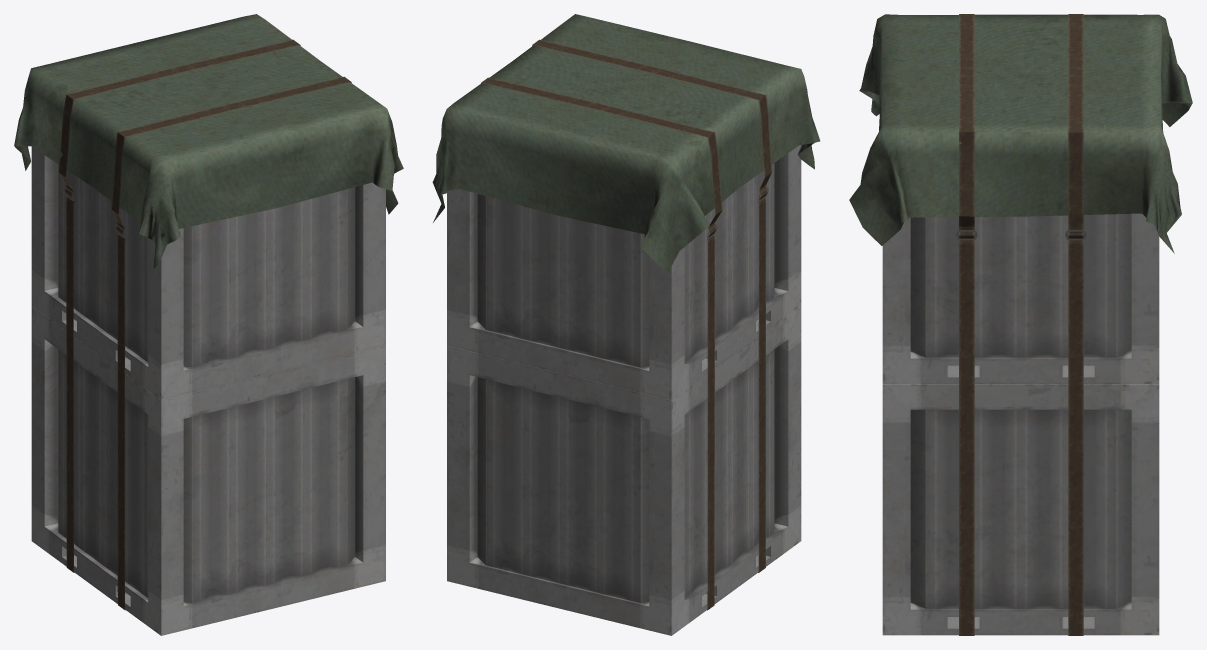
The model's file is Uptown_SteelBox01.fbx.
3 renders of one model, left to right at view 1: azimuth 30°, elevation 25°; view 2: azimuth 150°, elevation 25°; view 3: azimuth 270°, elevation 25°, orthographic. The views are drawn at different scales.
Parts seen in each view (by area): view 1: ItemBox_SteelBox_03_0_2; view 2: ItemBox_SteelBox_03_0_2; view 3: ItemBox_SteelBox_03_0_2.
Boxes of the visible parts, x1,y1,x2,y2 form: ItemBox_SteelBox_03_0_2: [14, 14, 403, 635]; ItemBox_SteelBox_03_0_2: [432, 14, 820, 635]; ItemBox_SteelBox_03_0_2: [849, 14, 1192, 635].
Bounding box in the file's own units: 124 × 201 × 124.
1 material, 1 textured.
